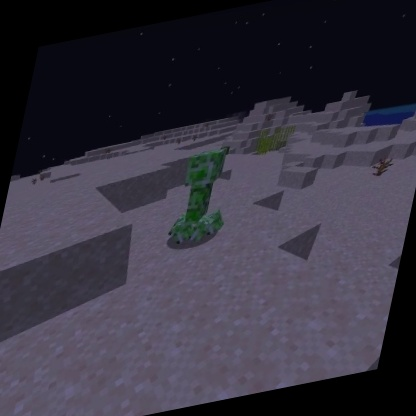creeper: (160, 140, 244, 254)
